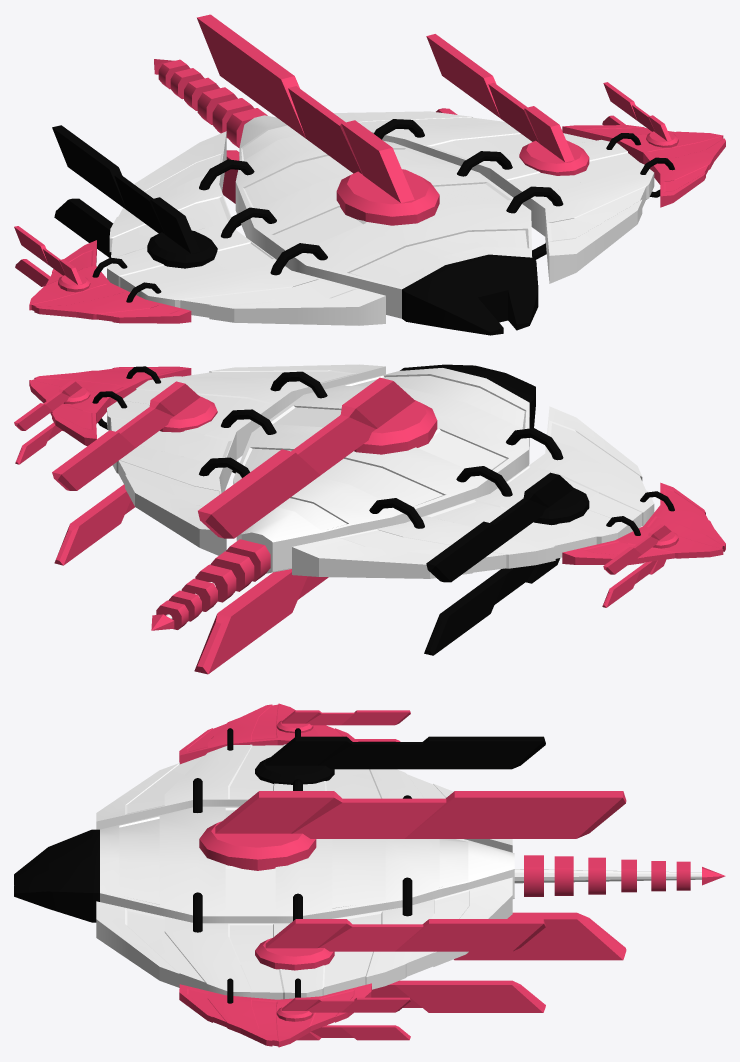
The model's file is Mecha Manta.fbx.
3 views of the same model, one above another, from view 1: azimuth 30°, elevation 25°; view 2: azimuth 150°, elevation 25°; view 3: azimuth 270°, elevation 25° (orthographic).
Parts seen in each view (by area): view 1: Mecha_Manta; view 2: Mecha_Manta; view 3: Mecha_Manta.
Part boxes in pixels (x1,y1,x2,y2): Mecha_Manta: (14, 14, 725, 335); Mecha_Manta: (14, 364, 725, 674); Mecha_Manta: (14, 703, 725, 1047).
Size of the model in its own units: 182 by 40.29 by 162.
